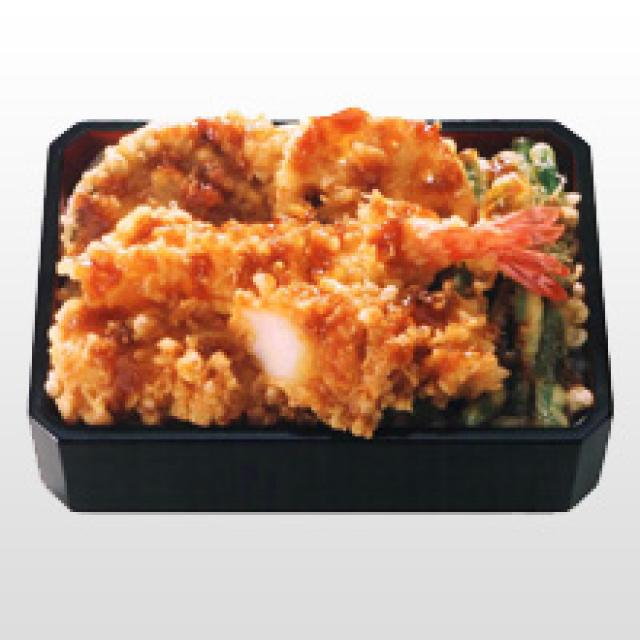熟制海鲜: (0, 96, 640, 527)
